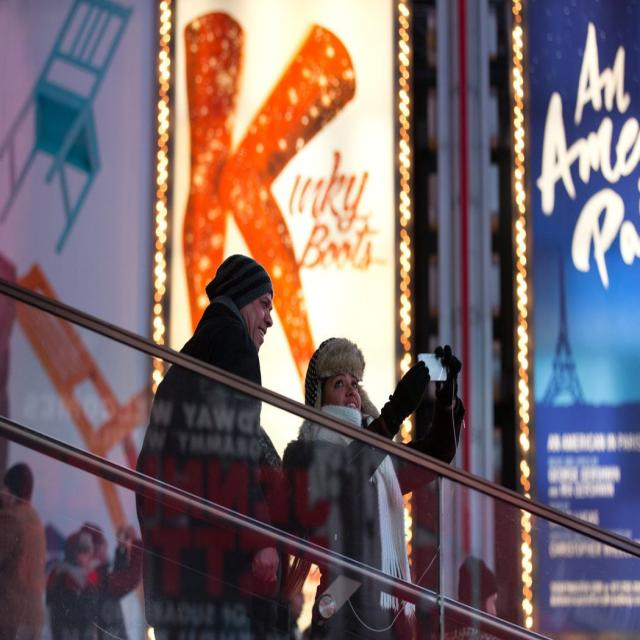body: (134, 252, 293, 639), (279, 330, 463, 639), (72, 522, 145, 640), (45, 526, 112, 639), (455, 555, 500, 620), (281, 564, 307, 636), (3, 461, 35, 503)
